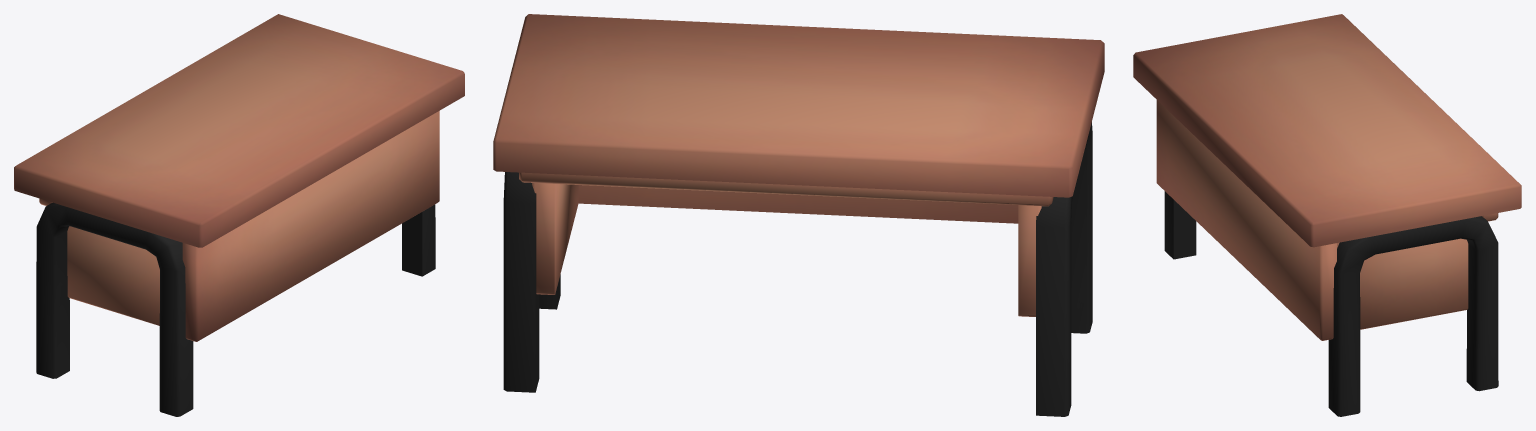
Rendered from Teacher'sDerk.fbx.
3 views of the same model, side by side, from view 1: azimuth 30°, elevation 25°; view 2: azimuth 150°, elevation 25°; view 3: azimuth 270°, elevation 25° (orthographic). The views are drawn at different scales.
Parts seen in each view (by area): view 1: Teacher'sDerk.003, Teacher'sDerk.007, Teacher'sDerk.005, Teacher'sDerk.006, Teacher'sDerk.004; view 2: Teacher'sDerk.003, Teacher'sDerk.005, Teacher'sDerk.007, Teacher'sDerk.004, Teacher'sDerk.001, Teacher'sDerk.002, Teacher'sDerk.006; view 3: Teacher'sDerk.003, Teacher'sDerk.007, Teacher'sDerk.004, Teacher'sDerk.002, Teacher'sDerk.005.
Boxes of the visible parts, x1,y1,x2,y2 form: Teacher'sDerk.003: [14, 14, 464, 247]; Teacher'sDerk.007: [182, 111, 439, 341]; Teacher'sDerk.005: [36, 202, 193, 416]; Teacher'sDerk.006: [67, 226, 159, 325]; Teacher'sDerk.004: [402, 204, 435, 276]; Teacher'sDerk.003: [493, 14, 1104, 197]; Teacher'sDerk.005: [1036, 122, 1092, 416]; Teacher'sDerk.007: [578, 185, 1018, 223]; Teacher'sDerk.004: [503, 172, 560, 392]; Teacher'sDerk.001: [519, 172, 1053, 206]; Teacher'sDerk.002: [532, 183, 578, 294]; Teacher'sDerk.006: [1018, 205, 1041, 316]; Teacher'sDerk.003: [1133, 14, 1521, 247]; Teacher'sDerk.007: [1156, 100, 1336, 340]; Teacher'sDerk.004: [1328, 216, 1498, 416]; Teacher'sDerk.002: [1337, 238, 1468, 329]; Teacher'sDerk.005: [1164, 191, 1196, 259].
Bounding box in the file's own units: 1.67 × 2.14 × 0.9536.
